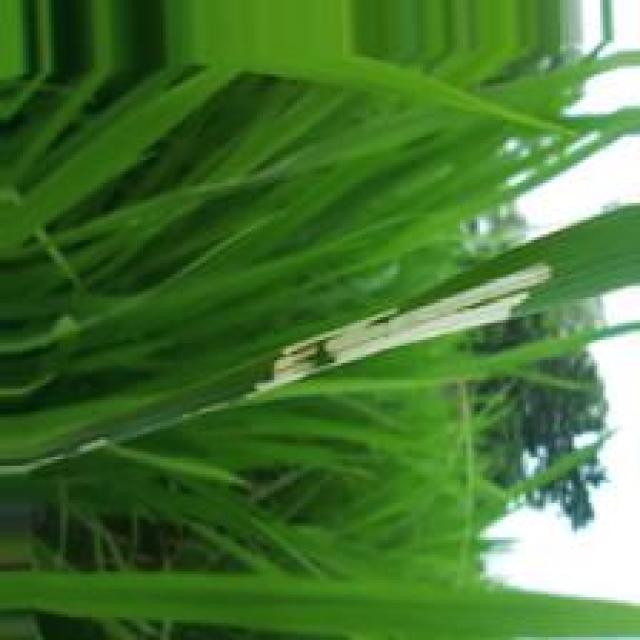Rice_Hispa: (250, 260, 557, 395)
